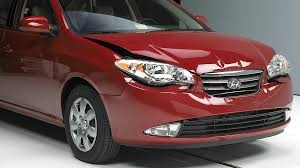Dent: (89, 36, 186, 70)
